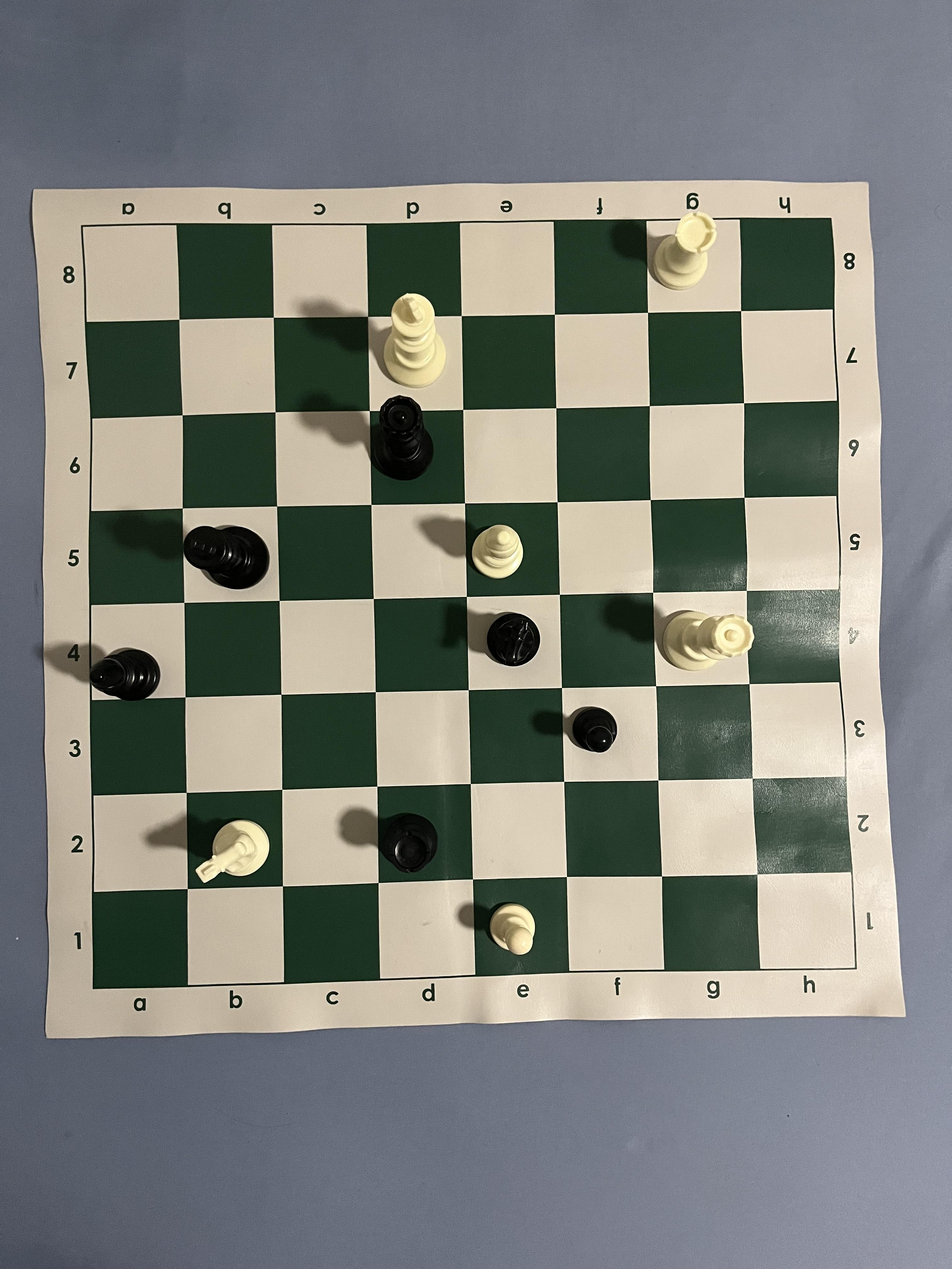black_bishop: (88, 647, 161, 703)
black_king: (184, 524, 270, 591)
black_knight: (486, 612, 542, 668)
black_pawn: (571, 706, 619, 754)
black_queen: (372, 395, 436, 482)
black_rook: (377, 812, 439, 872)
white_bishop: (471, 524, 525, 579)
white_king: (383, 292, 447, 390)
white_knight: (195, 818, 271, 883)
white_pawn: (488, 903, 537, 956)
white_queen: (660, 610, 756, 672)
white_rook: (653, 211, 718, 291)
